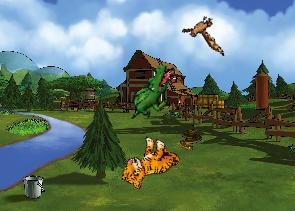crocodile: (129, 59, 176, 125)
eagle: (178, 11, 231, 56)
tiger: (117, 130, 183, 199)
